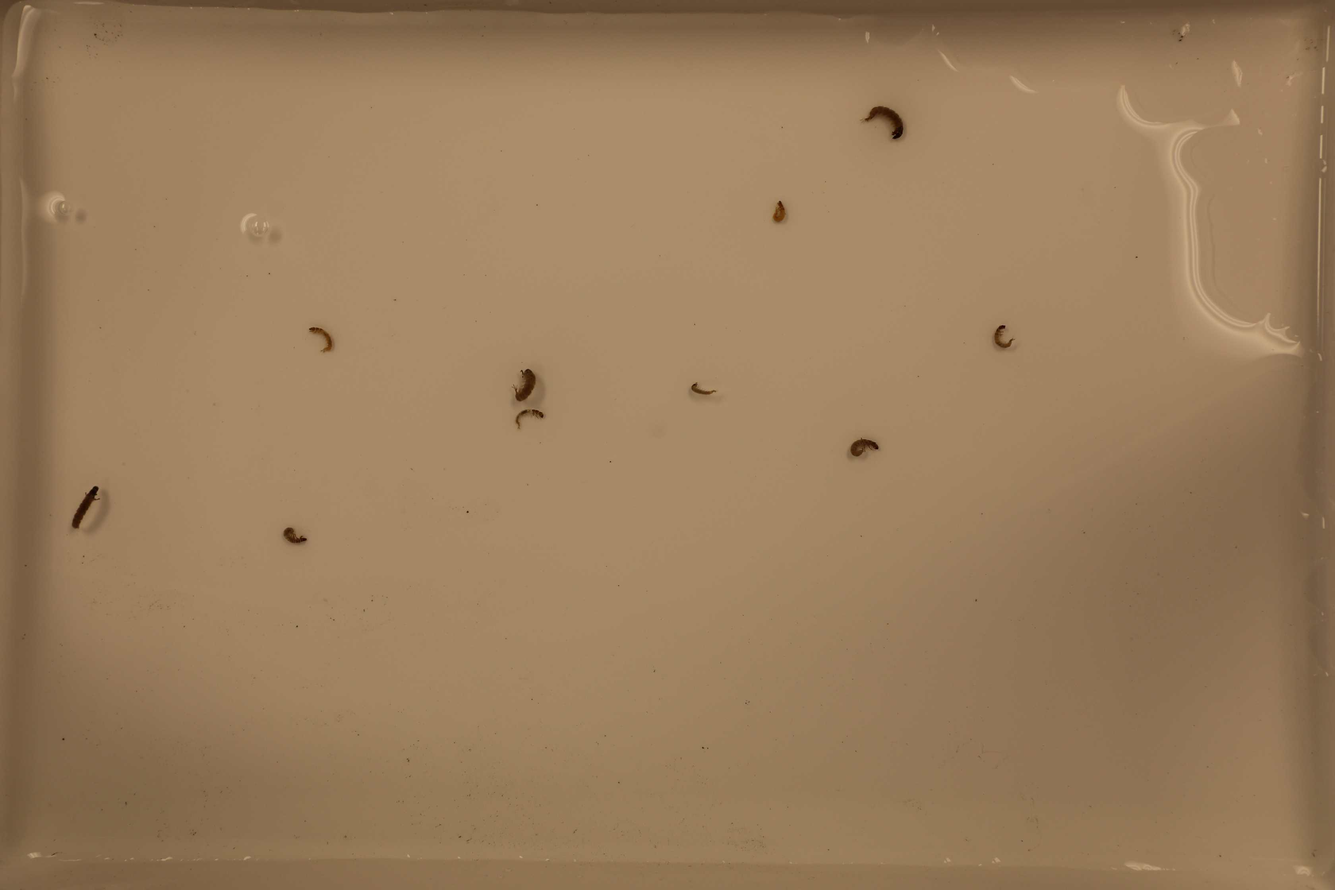Cadisfly: (68, 479, 102, 533), (859, 106, 905, 139), (509, 365, 538, 405), (512, 408, 548, 431), (309, 324, 334, 352), (768, 196, 791, 226), (992, 322, 1014, 350), (277, 528, 307, 548), (849, 439, 882, 457), (689, 381, 718, 398)
